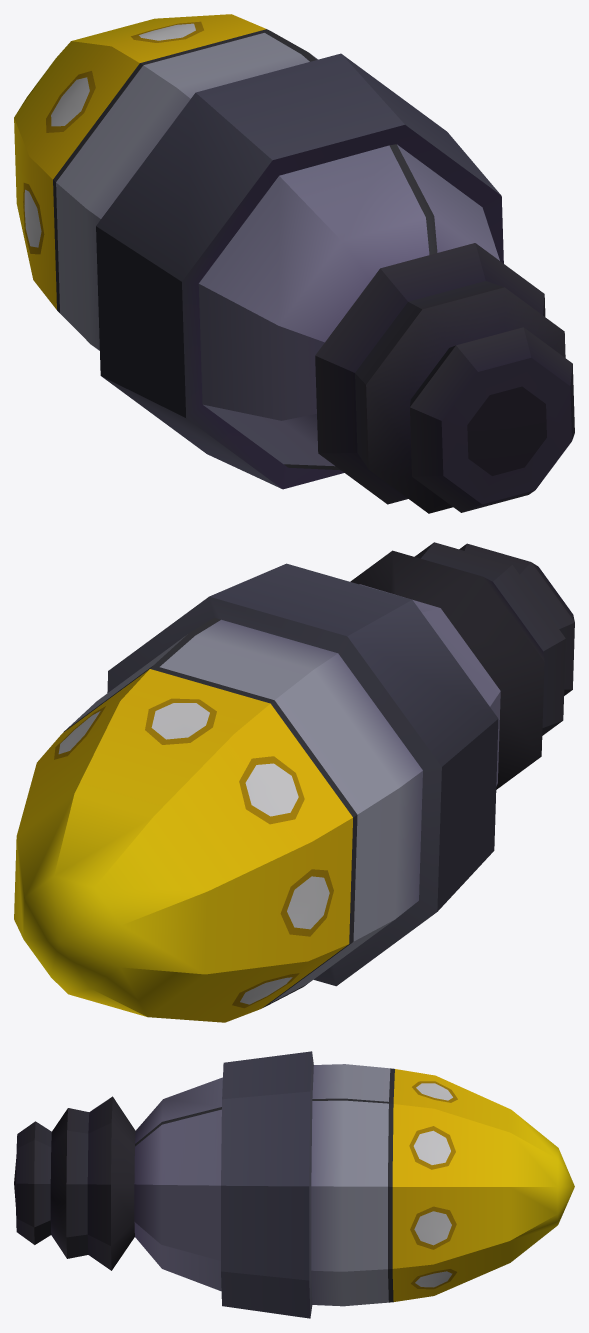
The model's file is platformRocketB.fbx.
3 renders of one model, top to bottom at view 1: azimuth 30°, elevation 25°; view 2: azimuth 150°, elevation 25°; view 3: azimuth 270°, elevation 25°, orthographic. The views are drawn at different scales.
Visible parts, largest first — view 1: platformRocketB; view 2: platformRocketB; view 3: platformRocketB.
Boxes of the visible parts, <box> form: platformRocketB: <box>14,14,574,513</box>; platformRocketB: <box>14,542,574,1022</box>; platformRocketB: <box>14,1051,574,1318</box>.
Bounding box in the file's own units: 57.44 × 57.45 × 129.
